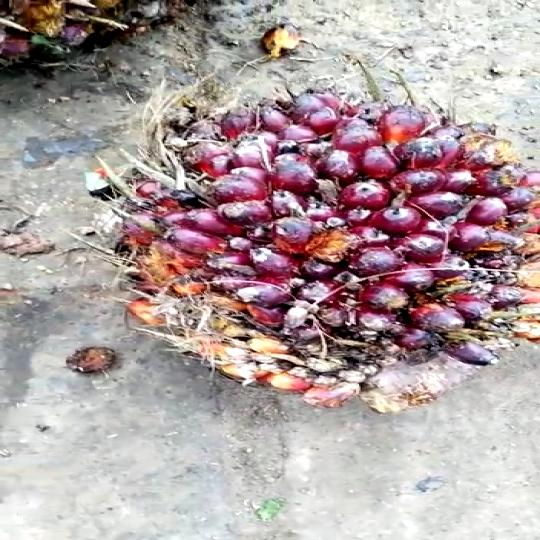masak: (100, 91, 540, 415)
